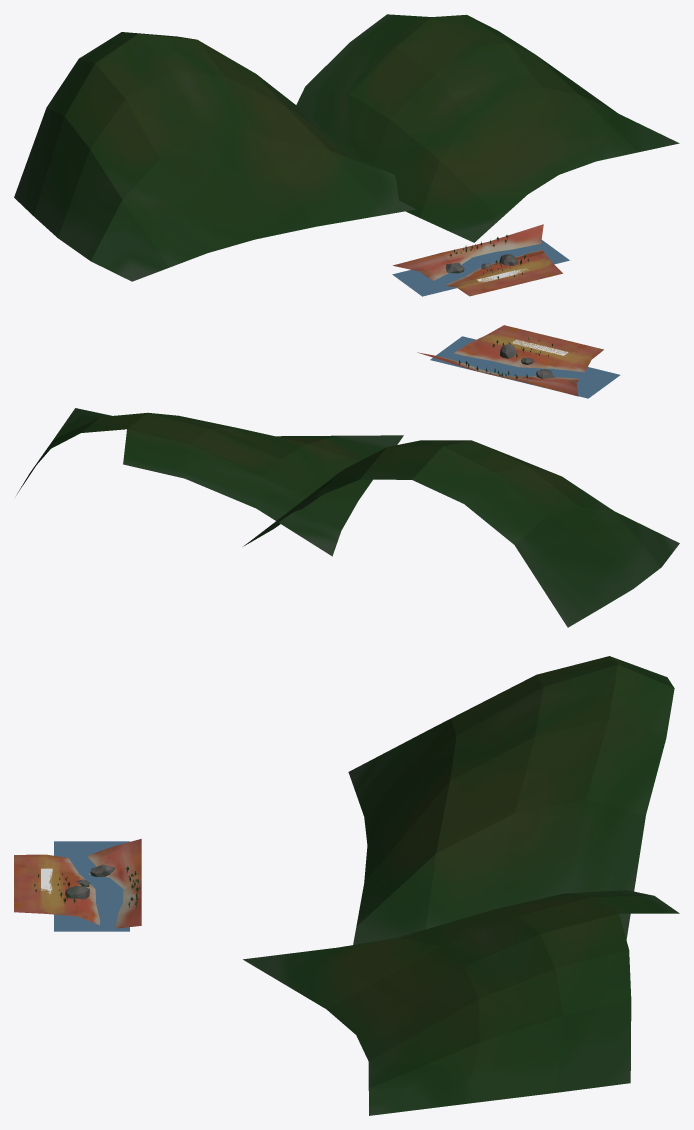
File: taynguyen.fbx
3 renders of one model, top to bottom at view 1: azimuth 30°, elevation 25°; view 2: azimuth 150°, elevation 25°; view 3: azimuth 270°, elevation 25°, orthographic. The views are drawn at different scales.
Parts seen in each view (by area): view 1: Plane.002, Plane.001, Plane.003; view 2: Plane.002, Plane.001, Plane.003; view 3: Plane.002, Plane.001, Plane.003.
Part boxes in pixels (left/top/right/bottom): Plane.002: left=14, top=14, right=679, bottom=281; Plane.001: left=393, top=224, right=562, bottom=296; Plane.003: left=392, top=240, right=569, bottom=296; Plane.002: left=16, top=408, right=679, bottom=627; Plane.001: left=417, top=325, right=603, bottom=396; Plane.003: left=430, top=336, right=620, bottom=398; Plane.002: left=243, top=656, right=679, bottom=1115; Plane.001: left=14, top=839, right=141, bottom=928; Plane.003: left=54, top=841, right=129, bottom=931.
Size of the model in its own units: 70087 by 16953 by 56496.
Materials: 7 (7 with a texture image).
